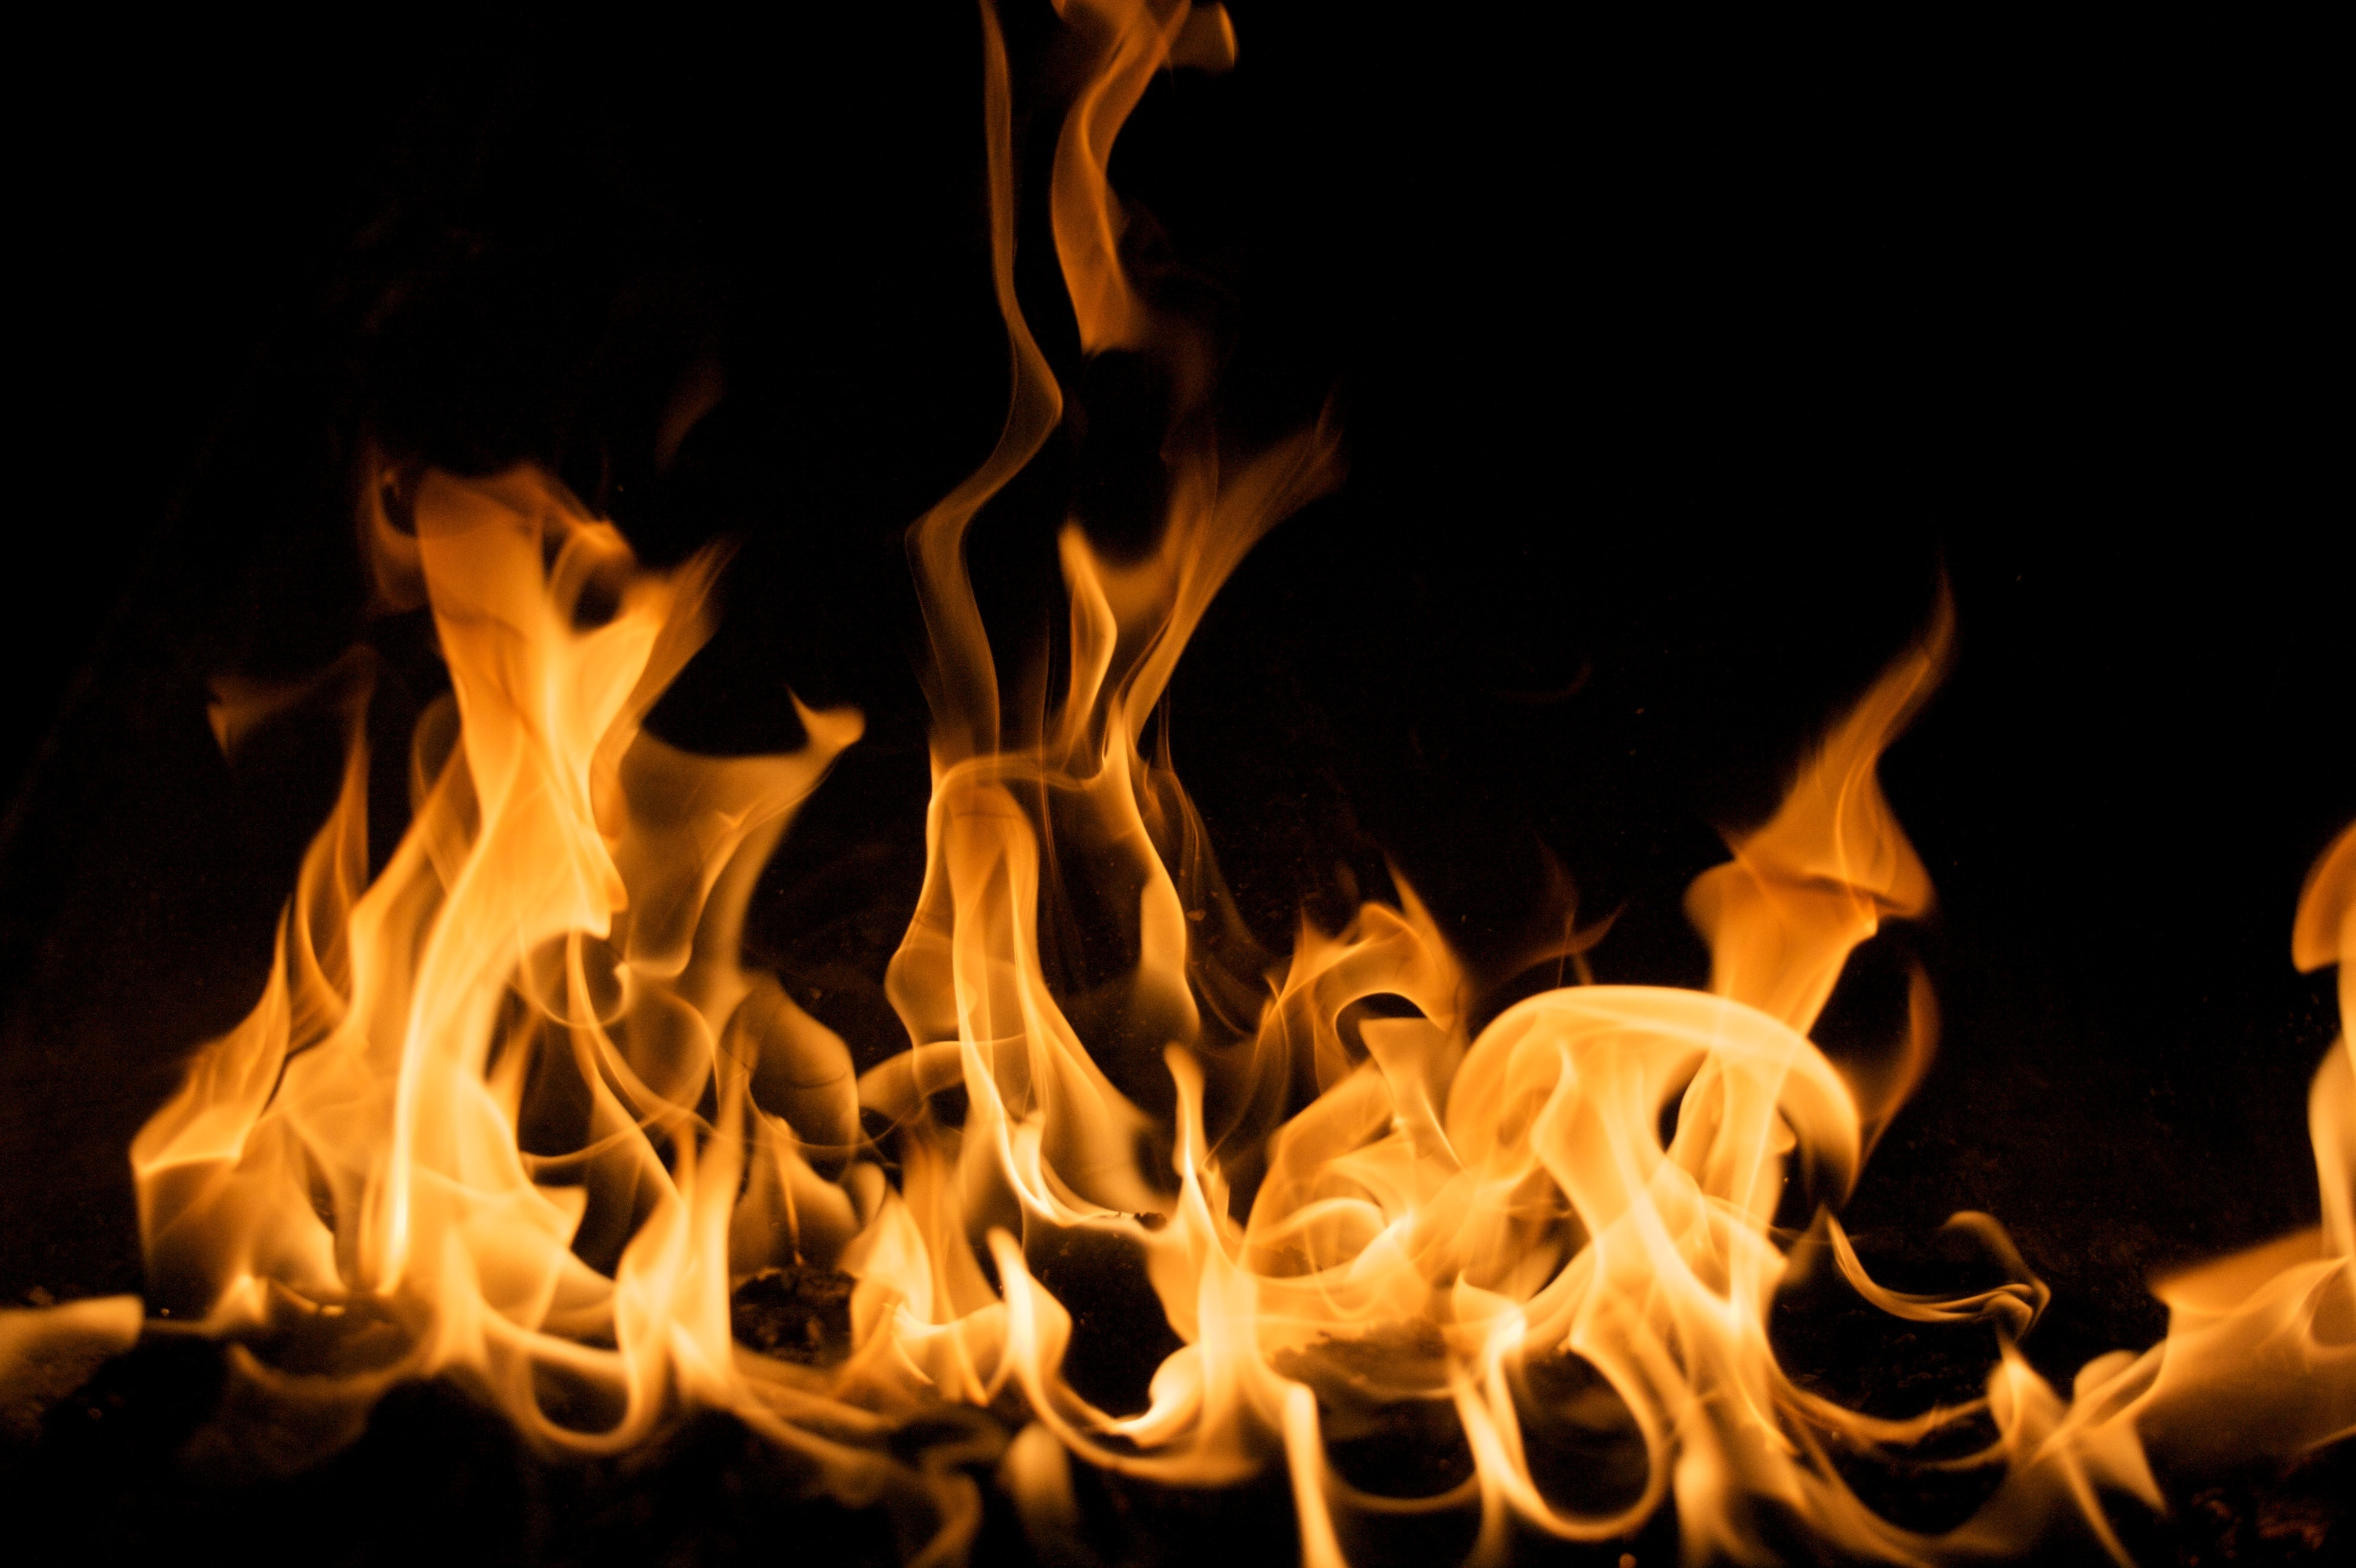fire: (98, 147, 1918, 1509)
